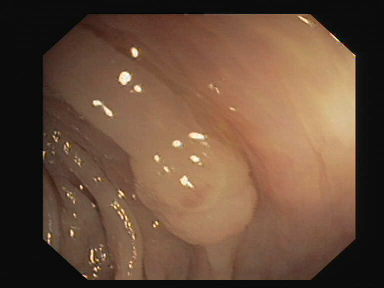polyp: (102, 108, 307, 263)
